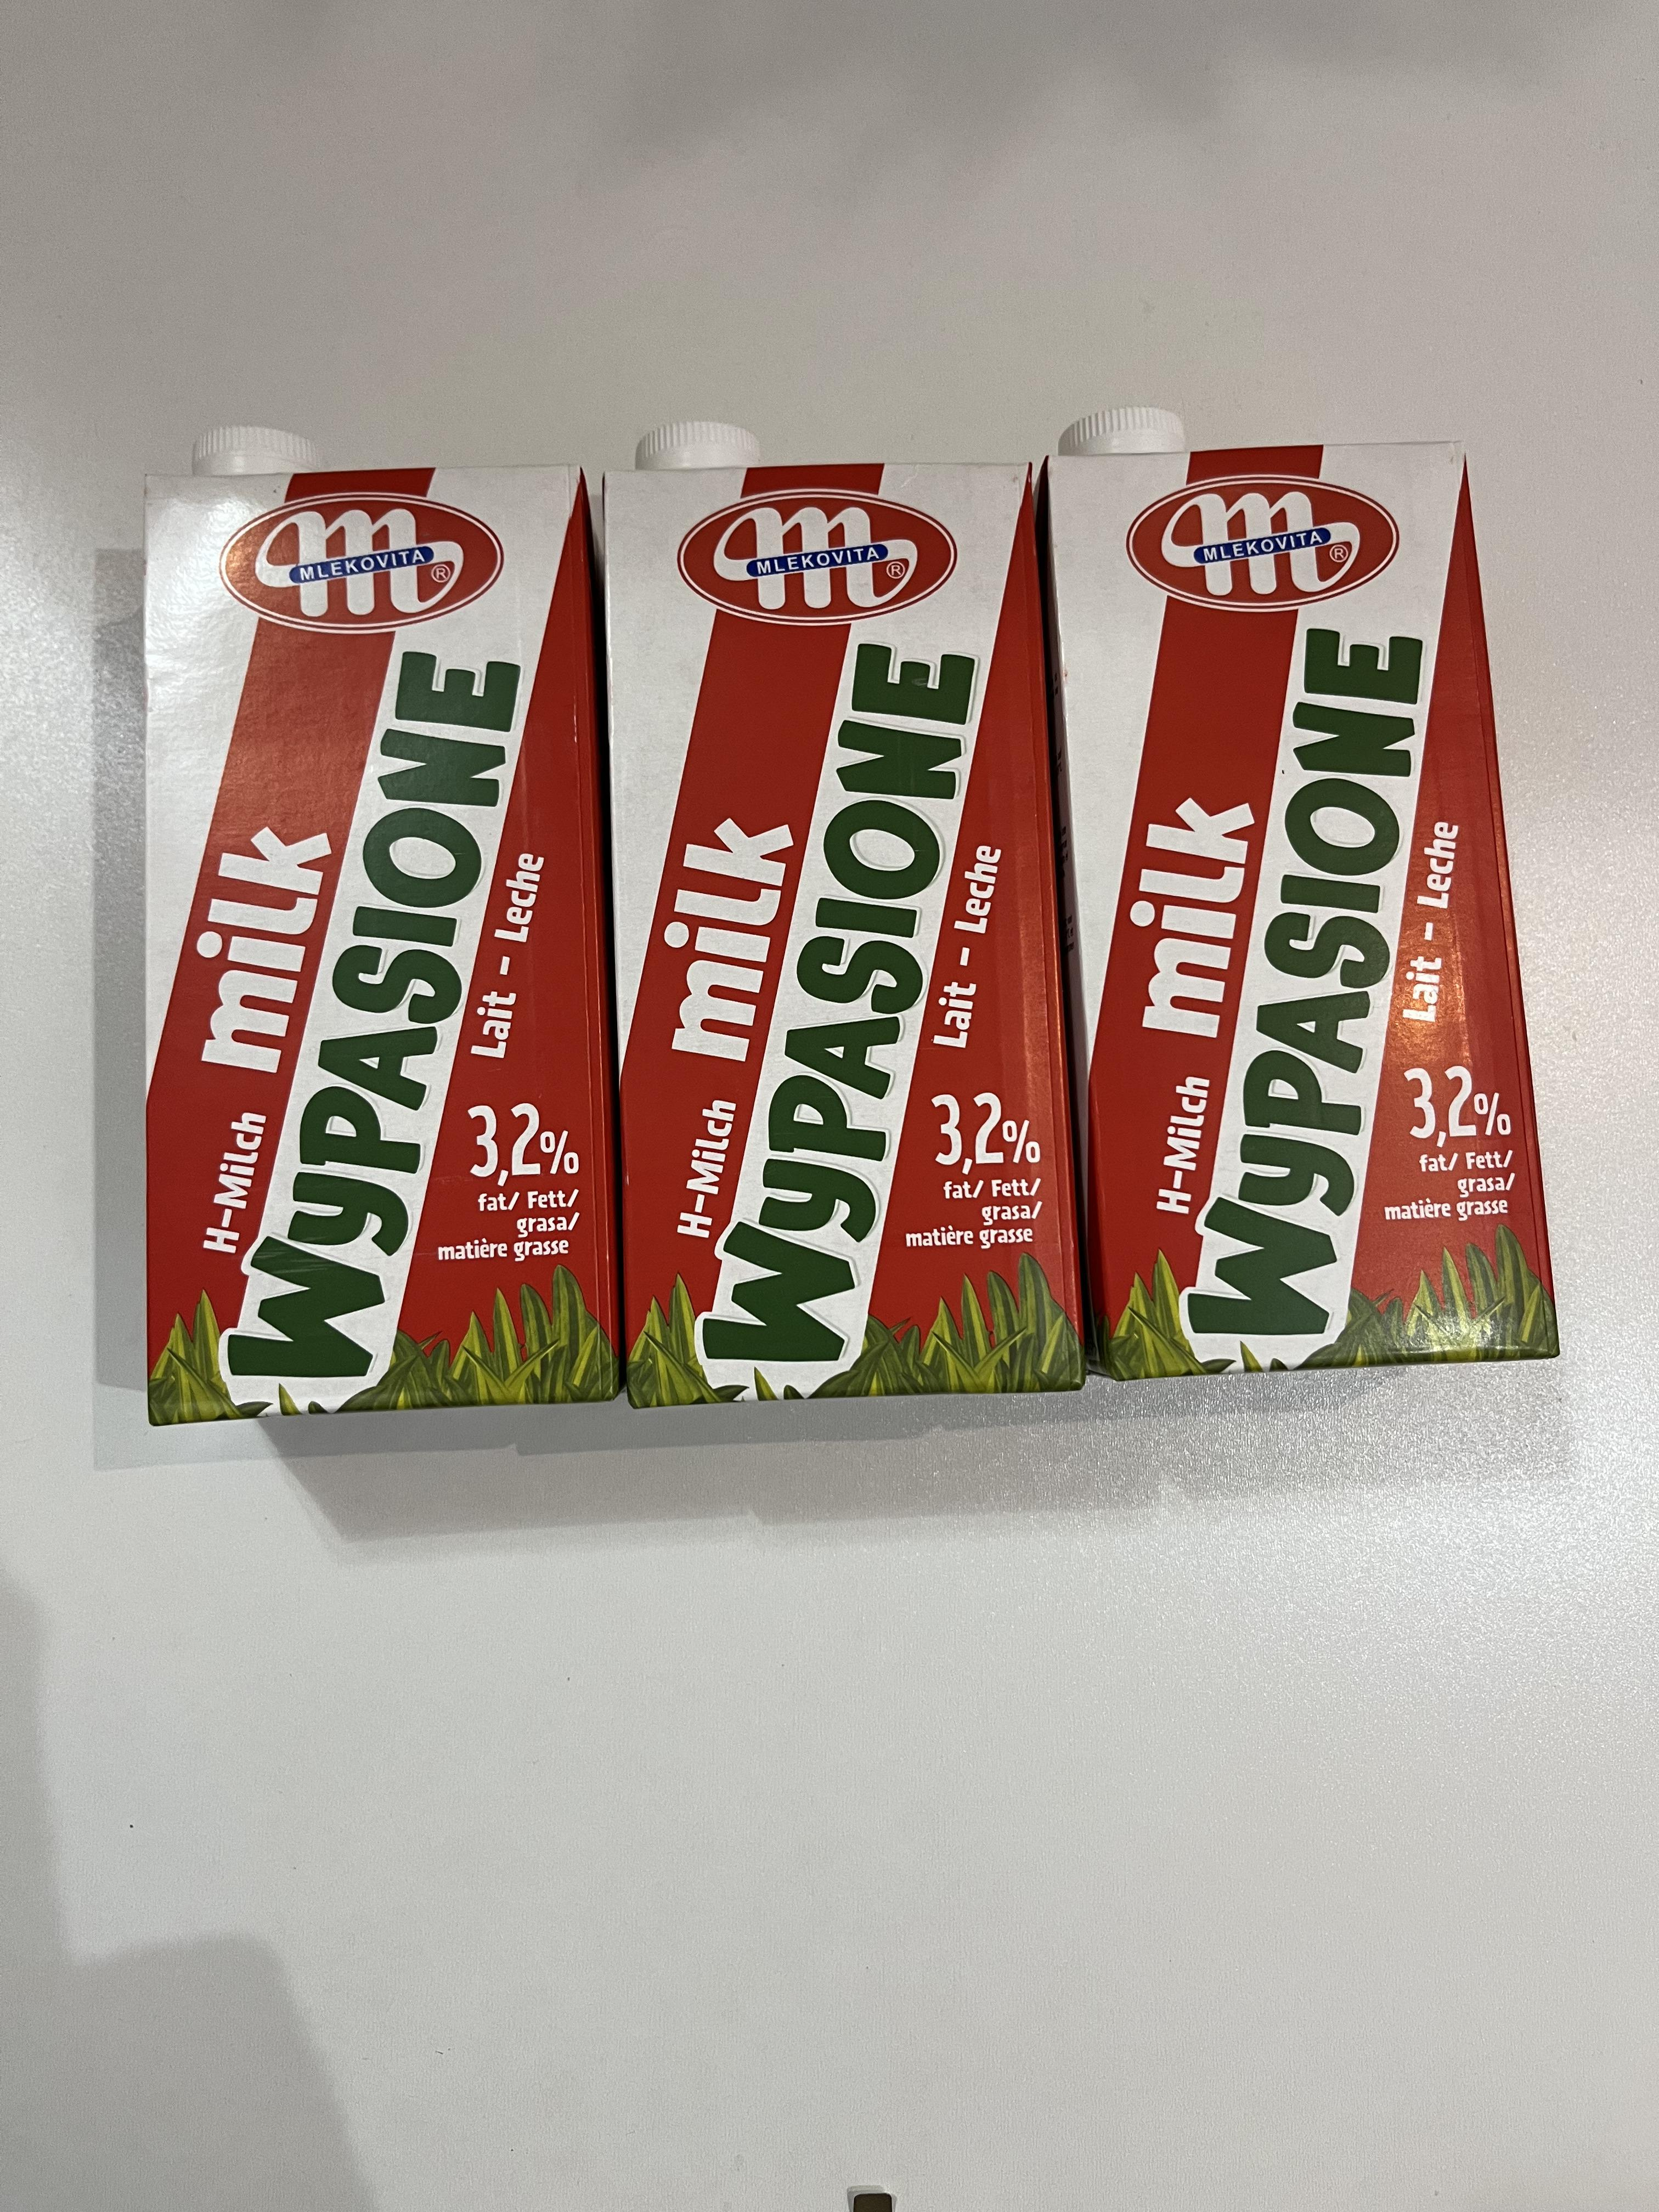Milk: (612, 462, 1098, 1411), (1054, 458, 1547, 1371), (146, 475, 622, 1420)
